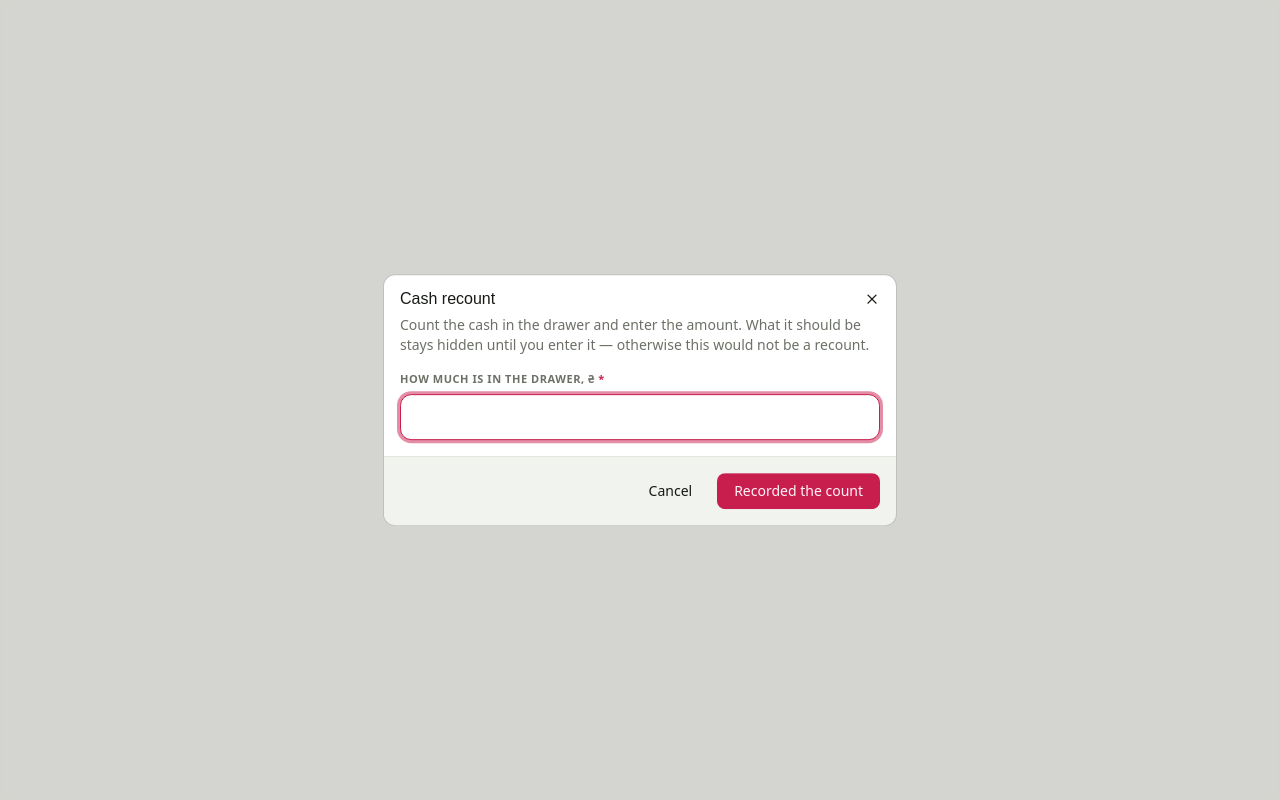
Test: RecountDrawerDialog › shows the discrepancy note when the recount does not match
The width and height of the screenshot is (1280, 800).
Type "1450.00" into the field. click: x=640, y=417
box: [400, 394, 880, 440]
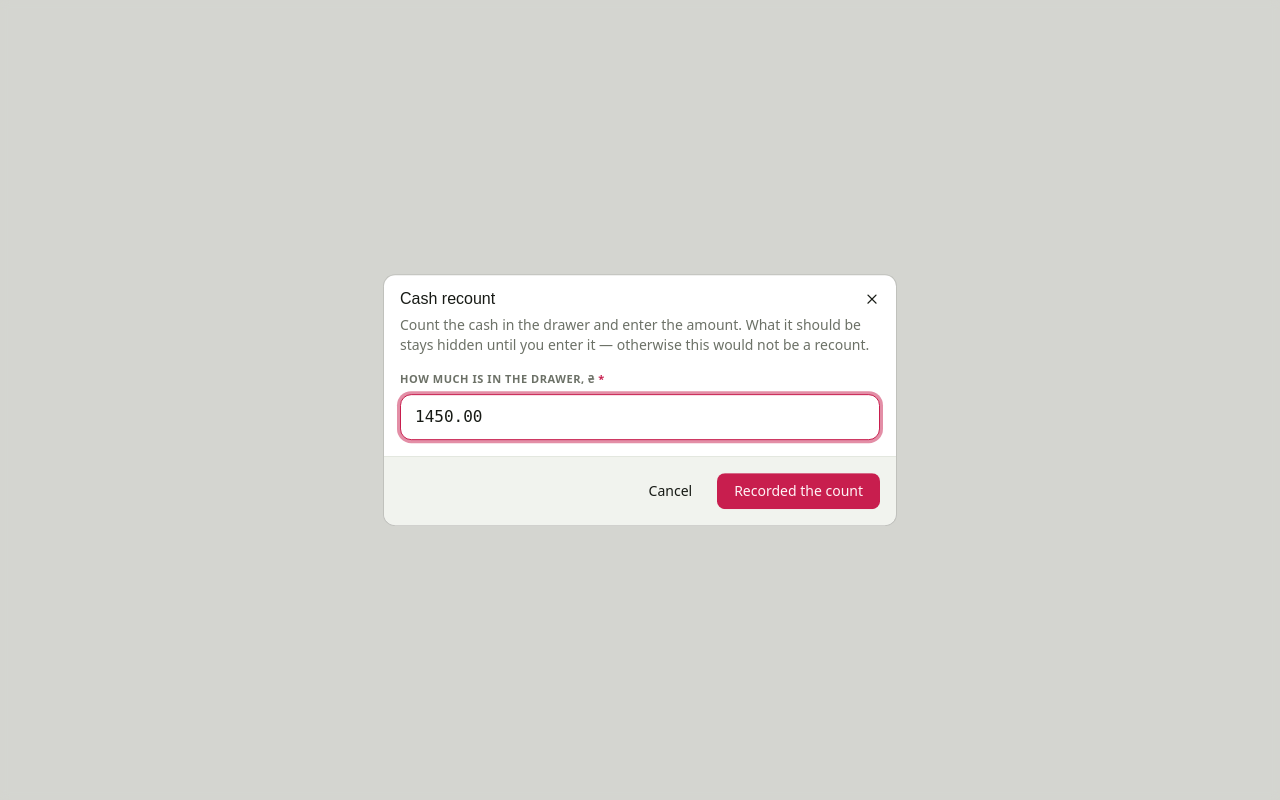
Click the button "Recorded the count". click: x=799, y=491
box: [717, 473, 880, 509]
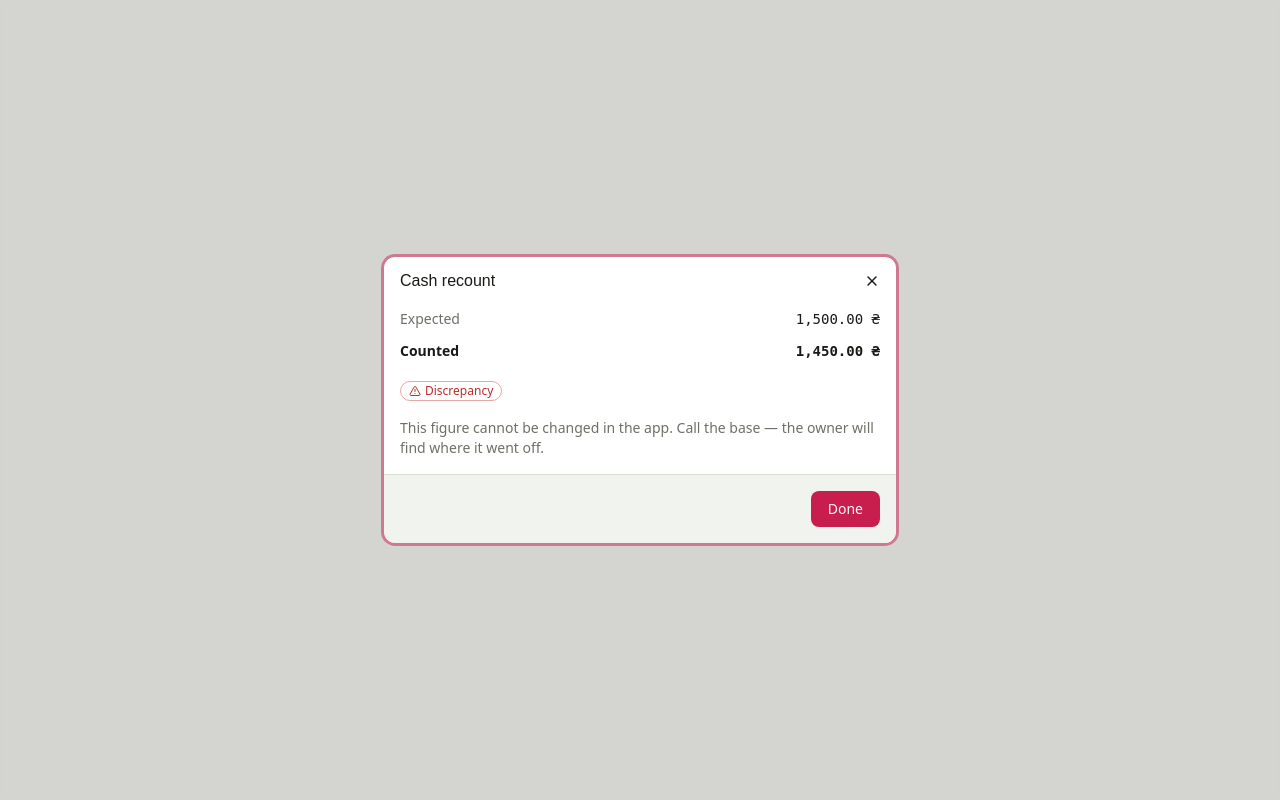
Expected: the text "This figure cannot be changed in the app" is shown, [400, 418, 874, 457]
